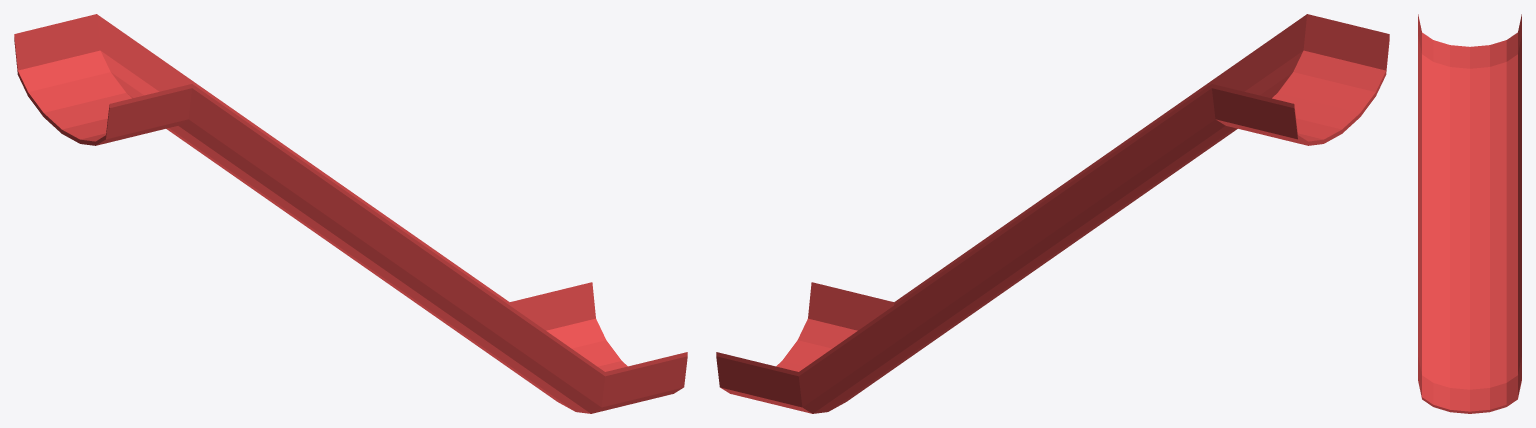
Rendered from Slide.fbx.
3 views of the same model, side by side, from view 1: azimuth 30°, elevation 25°; view 2: azimuth 150°, elevation 25°; view 3: azimuth 270°, elevation 25° (orthographic). The views are drawn at different scales.
Parts seen in each view (by area): view 1: Slide; view 2: Slide; view 3: Slide.
Boxes of the visible parts, bbox=[...] form: Slide: bbox=[14, 14, 687, 413]; Slide: bbox=[716, 14, 1389, 413]; Slide: bbox=[1418, 14, 1521, 413].
Size of the model in its own units: 1400 by 1050 by 400.
